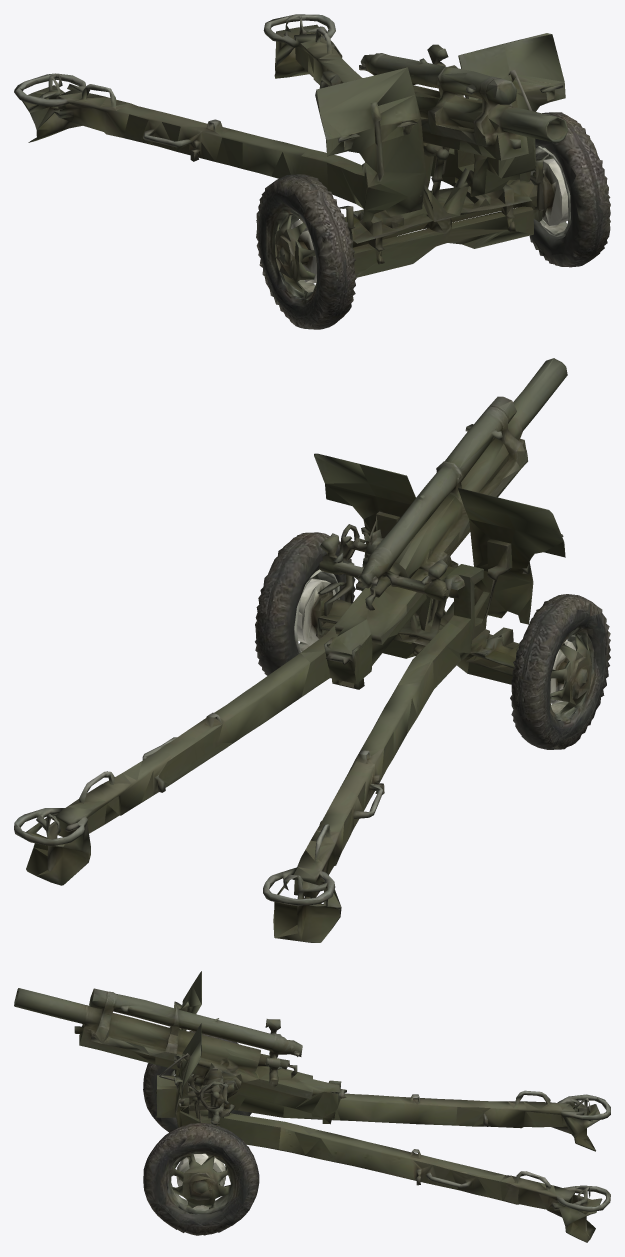
3 renders of one model, top to bottom at view 1: azimuth 30°, elevation 25°; view 2: azimuth 150°, elevation 25°; view 3: azimuth 270°, elevation 25°, orthographic. The views are drawn at different scales.
Parts seen in each view (by area): view 1: tripo_node_a947f487; view 2: tripo_node_a947f487; view 3: tripo_node_a947f487.
Part boxes in pixels (box(x1,y1,x2,y2)): tripo_node_a947f487: box(14, 14, 610, 329); tripo_node_a947f487: box(14, 358, 610, 942); tripo_node_a947f487: box(14, 971, 610, 1242).
Bounding box in the file's own units: 2.21 × 1.83 × 4.89.
1 material, 1 textured.
